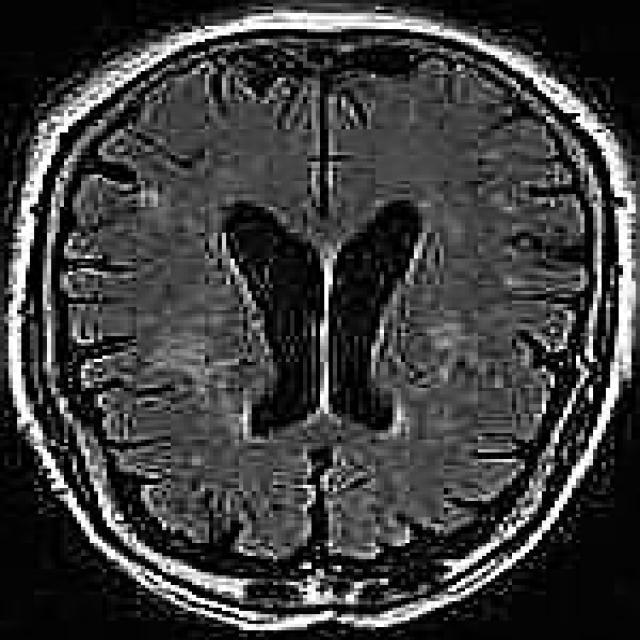notumor: (13, 13, 636, 634)
